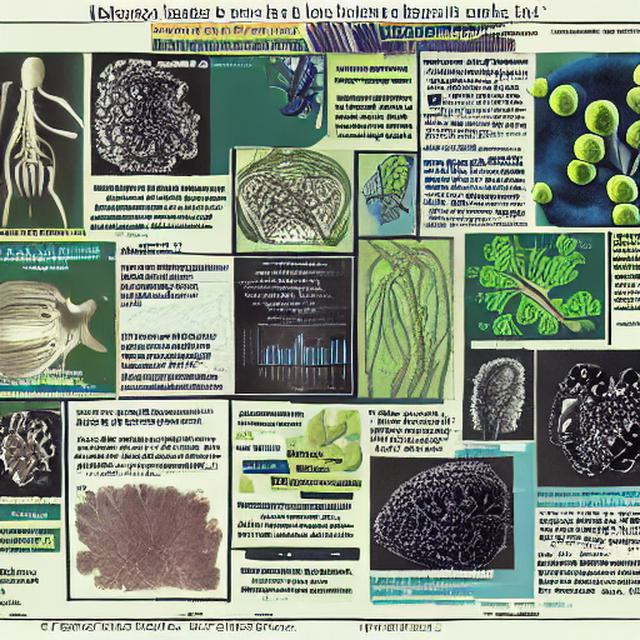Graph: (240, 315, 349, 393)
